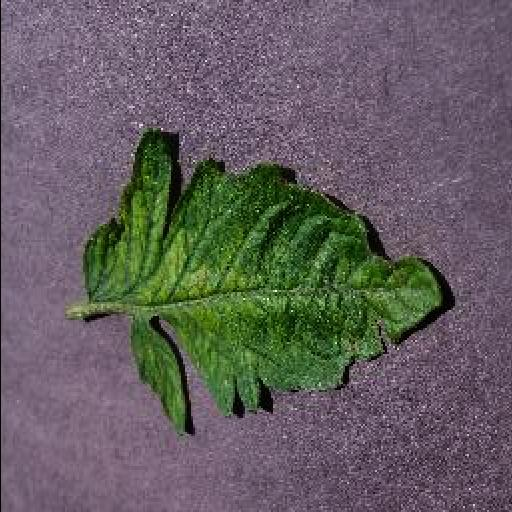Mosaic Virus: (84, 125, 450, 439)
